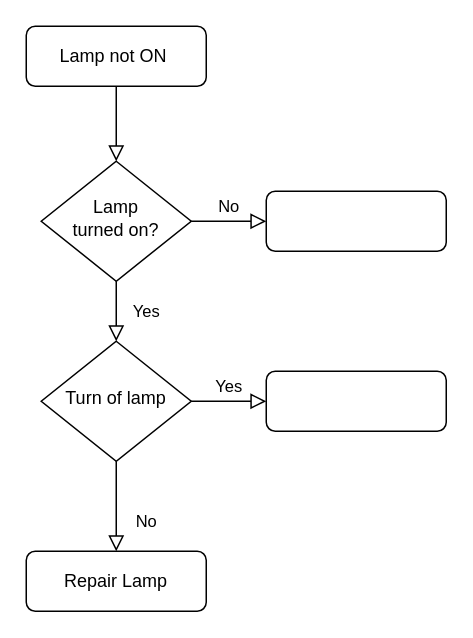
Some shapes in this 473 by 638 pixel diagram are drawn without their labels. Here are the shapes that lost their labels. From the top down, the centre of each, then its label:
point (355, 220): turn on lamp "Lights on!"
point (355, 400): Turn off lamp "Ligths off!"
